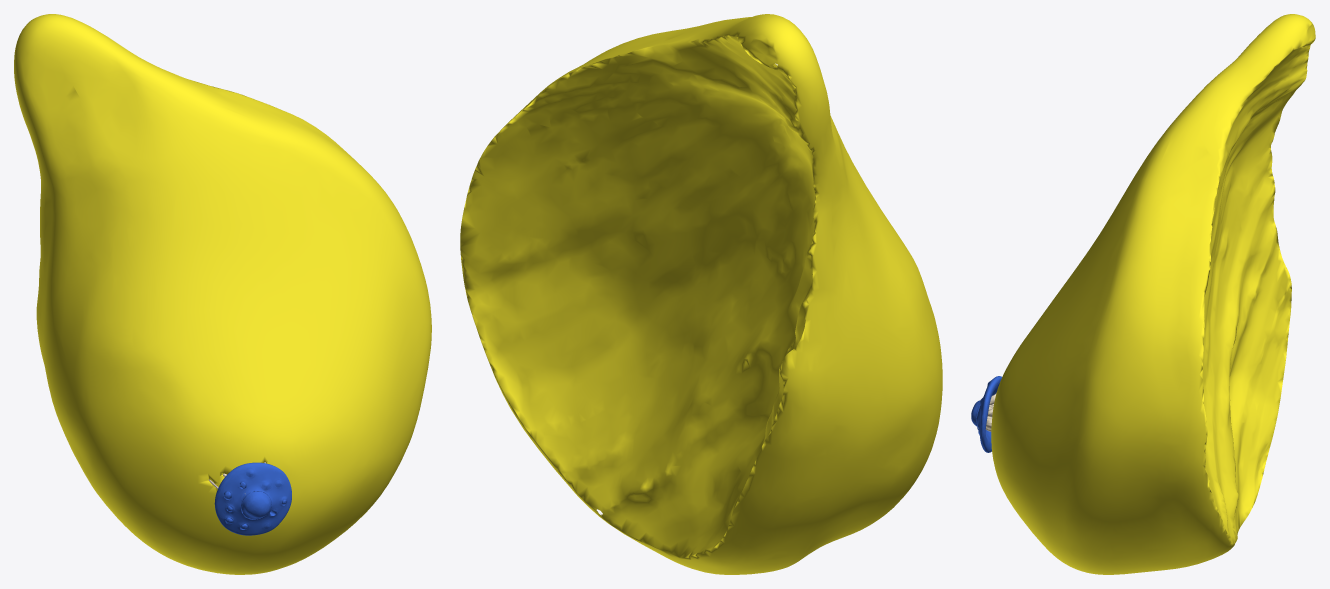
File: 3d-vh-f-mammary-gland-r_lod_20.glb
3 renders of one model, left to right at view 1: azimuth 30°, elevation 25°; view 2: azimuth 150°, elevation 25°; view 3: azimuth 270°, elevation 25°, orthographic. The views are drawn at different scales.
Visible parts, largest first — view 1: VH_F_fat_R, VH_F_areola_R, VH_F_nipple_R; view 2: VH_F_fat_R; view 3: VH_F_fat_R, VH_F_areola_R.
Part boxes in pixels (left/top/right/bottom): VH_F_fat_R: left=14, top=14, right=431, bottom=574; VH_F_areola_R: left=214, top=462, right=291, bottom=535; VH_F_nipple_R: left=241, top=491, right=271, bottom=519; VH_F_fat_R: left=460, top=14, right=942, bottom=574; VH_F_fat_R: left=991, top=14, right=1315, bottom=574; VH_F_areola_R: left=976, top=376, right=1001, bottom=452.
Size of the model in its own units: 0.1283 by 0.18 by 0.1132.
